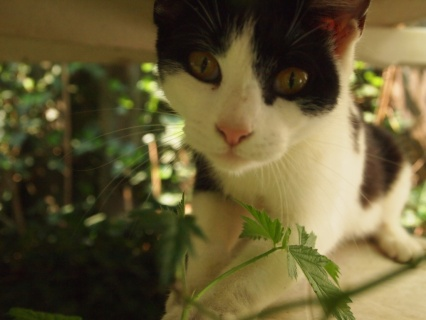Cat: (56, 0, 426, 319)
